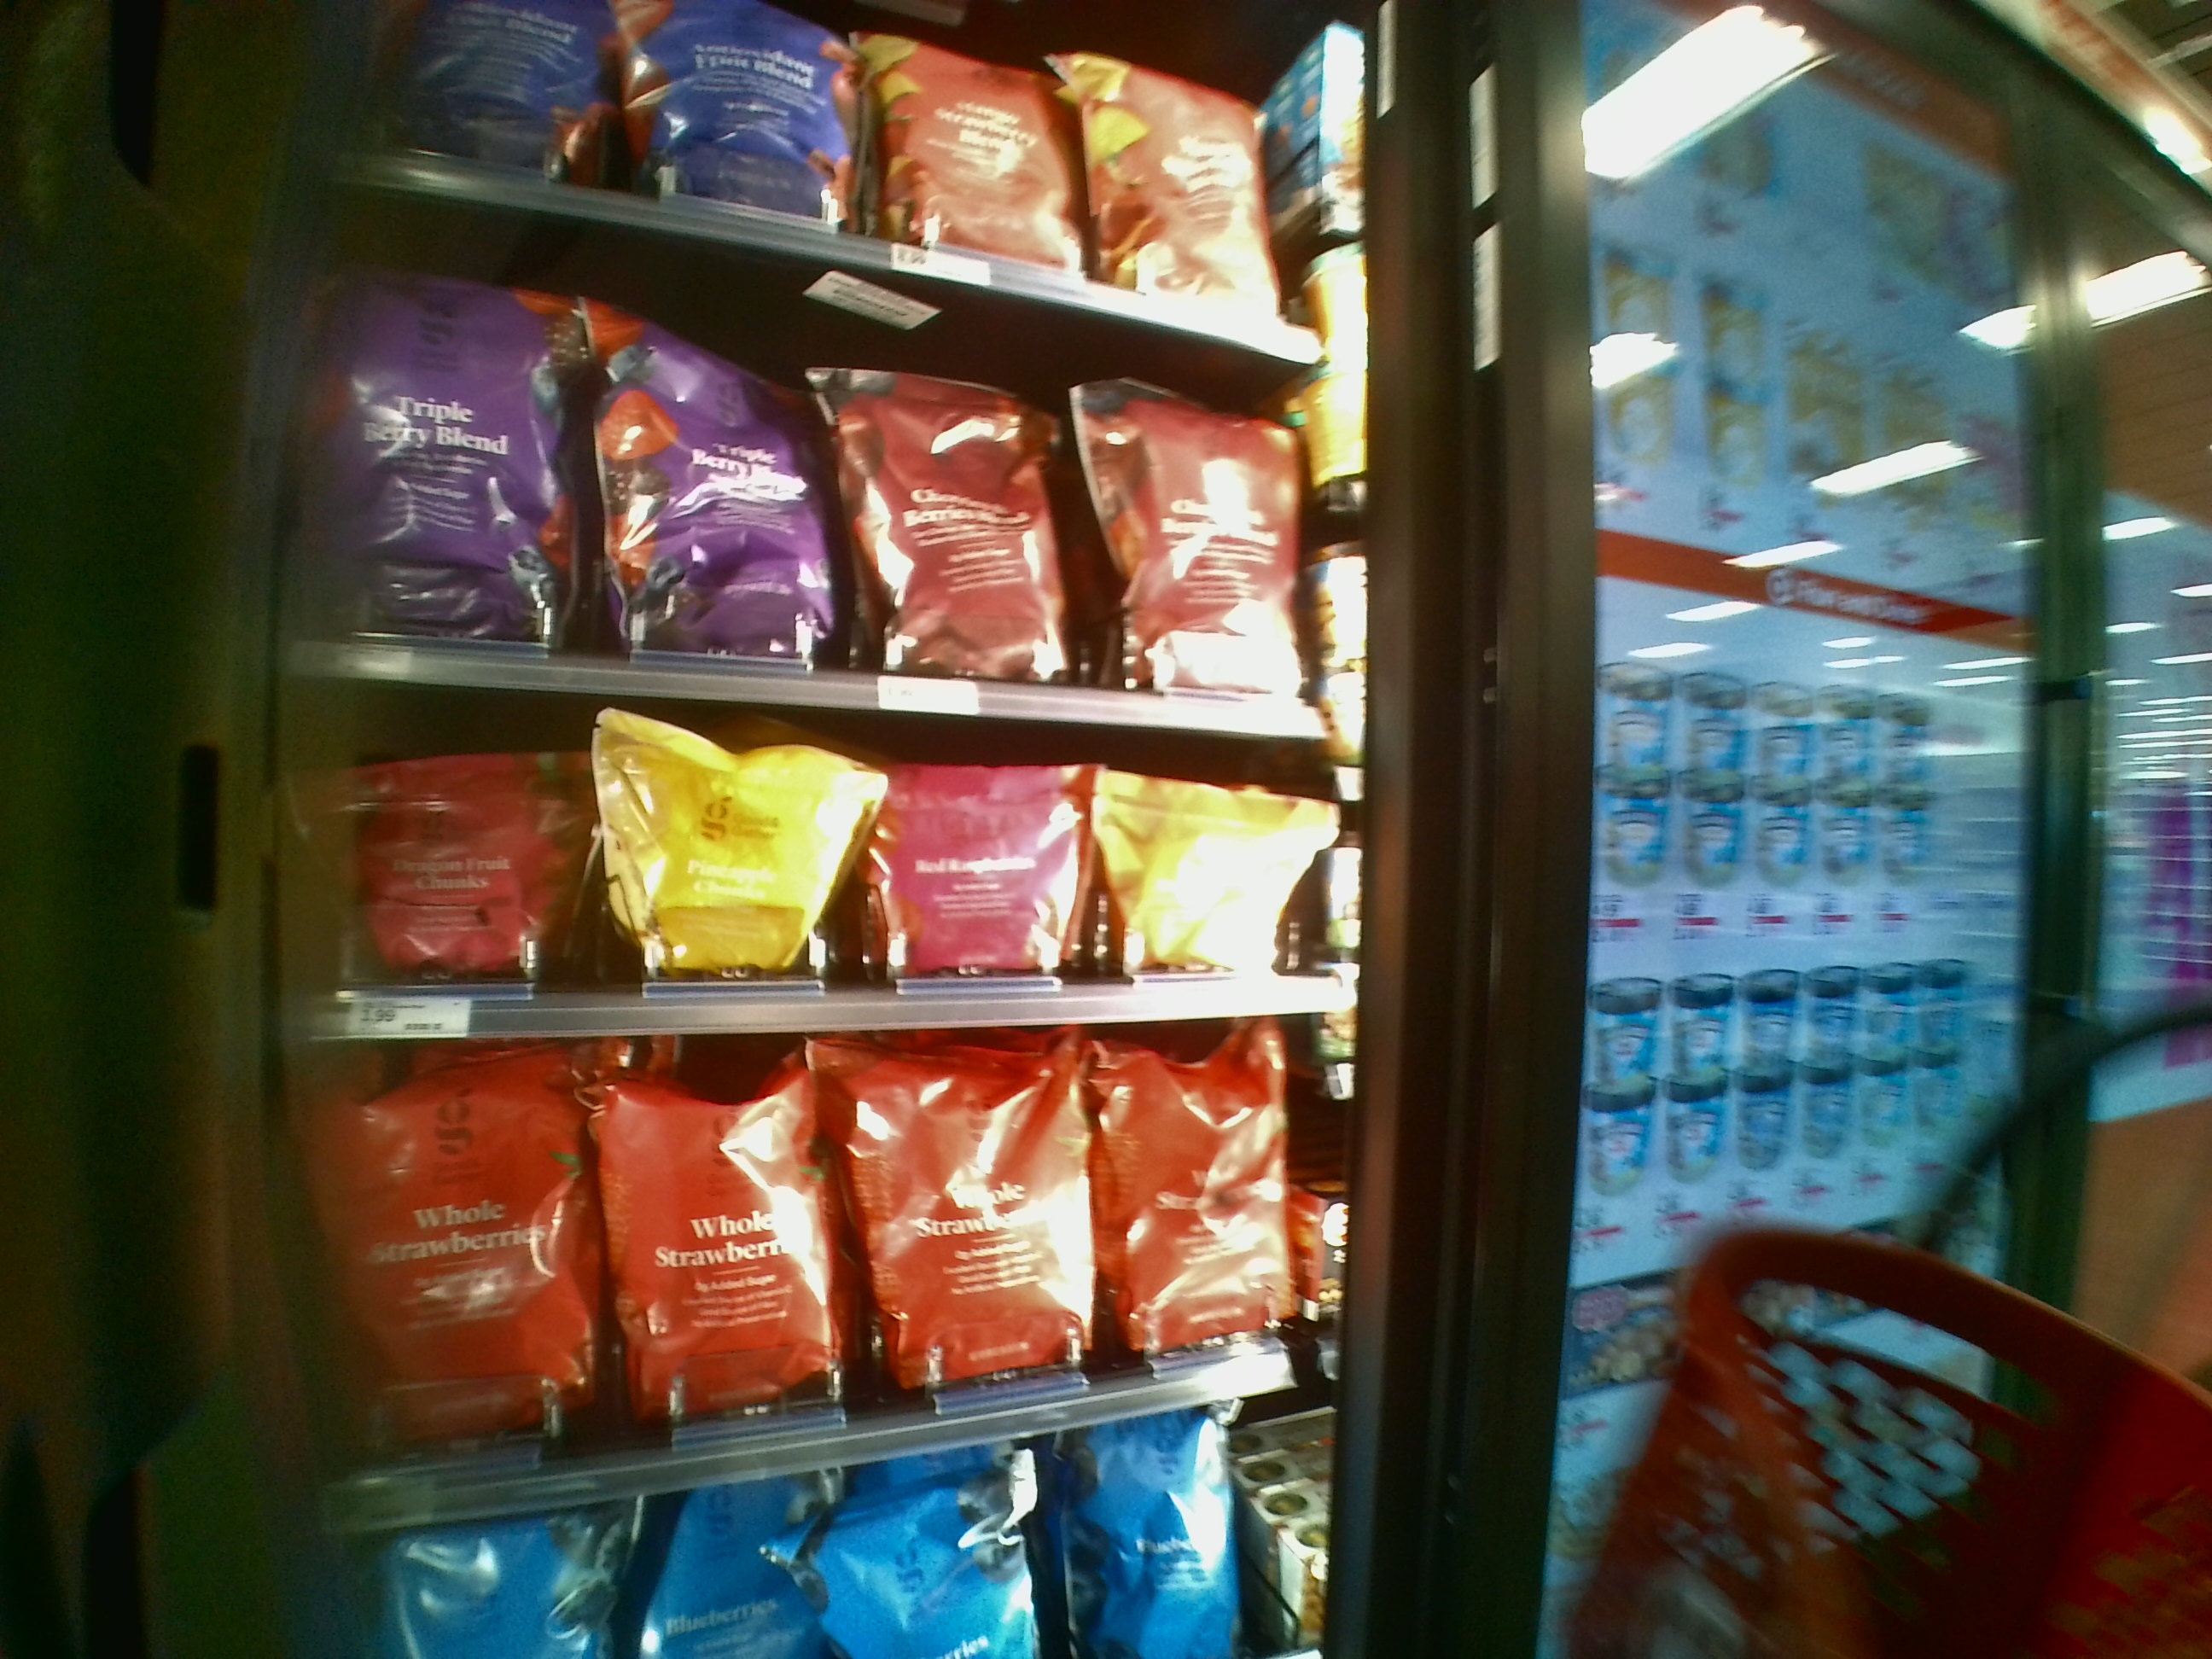shelf: (272, 254, 1362, 716), (303, 1047, 1348, 1466), (291, 704, 1362, 1051)
